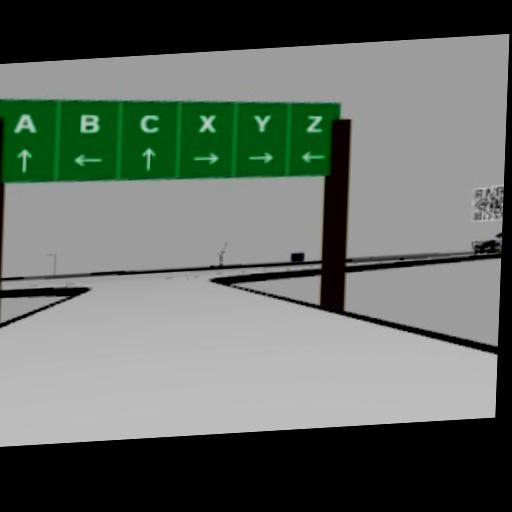A: (13, 111, 36, 133)
B: (78, 111, 100, 134)
C: (139, 112, 159, 133)
Left: (72, 151, 104, 167), (299, 149, 326, 163)
Right: (192, 151, 221, 166), (246, 150, 275, 164)
Straight: (15, 147, 31, 173), (141, 145, 156, 171)
X: (198, 113, 216, 134)
Y: (253, 112, 271, 133)
Z: (305, 114, 324, 133)
